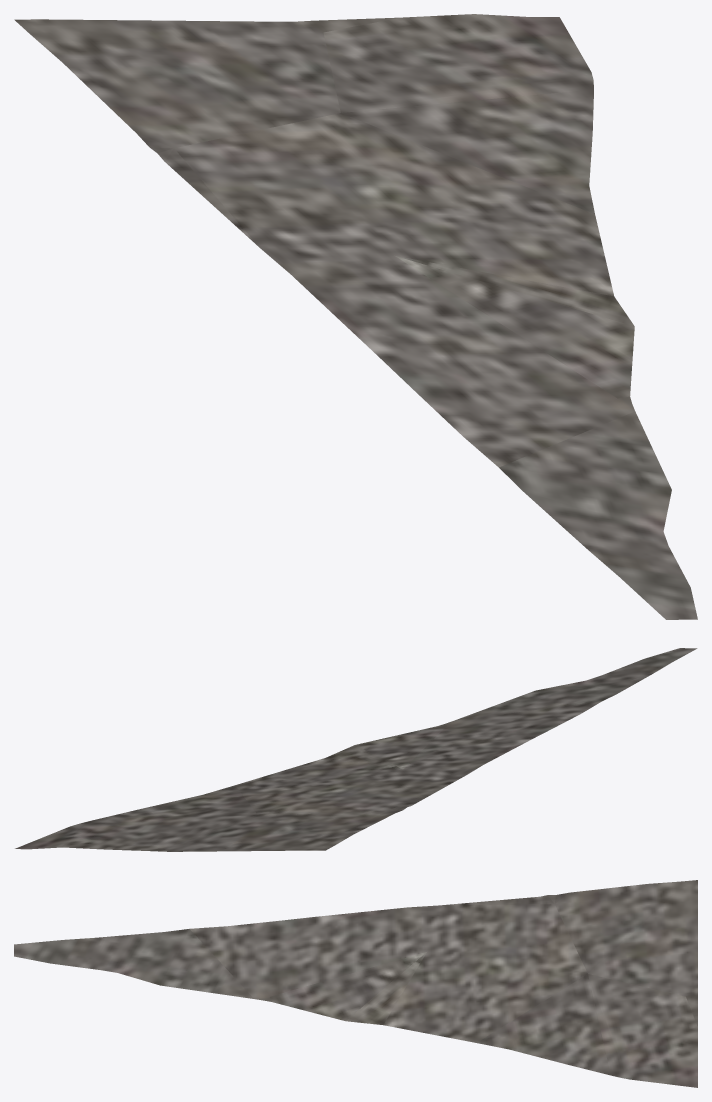
3 renders of one model, top to bottom at view 1: azimuth 30°, elevation 25°; view 2: azimuth 150°, elevation 25°; view 3: azimuth 270°, elevation 25°, orthographic. The views are drawn at different scales.
Bounding box in the file's own units: 0.4044 × 0.0924 × 0.8374.
Materials: 1 (1 with a texture image).
